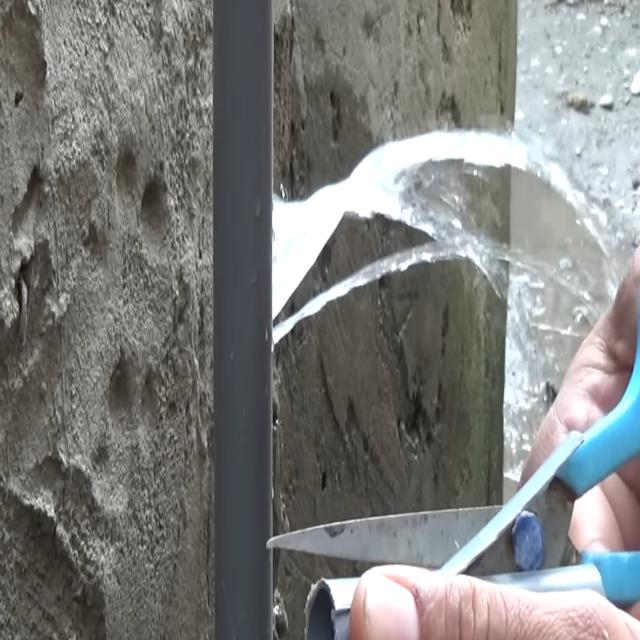leak: (272, 131, 618, 496)
